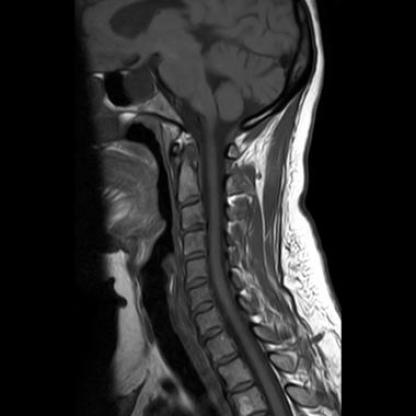Disc Bulgerotation: (178, 221, 205, 239), (180, 250, 208, 263)
